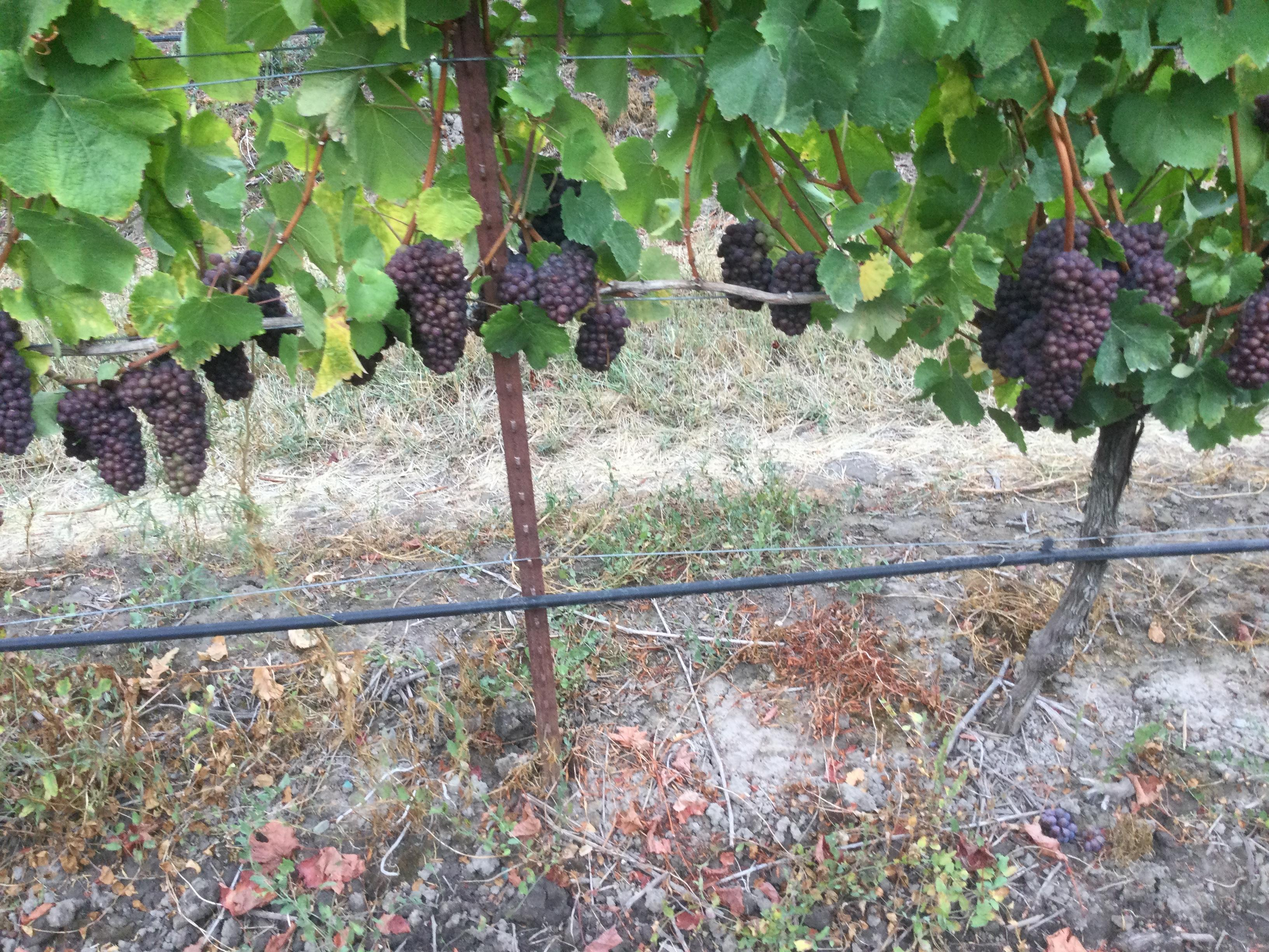leaf: (0, 51, 174, 216), (757, 0, 862, 130), (1112, 71, 1237, 174), (147, 110, 246, 231), (0, 240, 115, 343), (13, 207, 138, 292), (1157, 0, 1268, 81), (704, 19, 786, 127), (294, 30, 378, 133), (349, 94, 430, 200), (941, 0, 1059, 71), (181, 0, 260, 102), (1094, 290, 1176, 384), (911, 233, 998, 319), (546, 97, 626, 190), (612, 136, 681, 239), (858, 0, 958, 68), (850, 51, 937, 128), (481, 301, 570, 369), (572, 23, 628, 116), (169, 293, 262, 347), (57, 0, 134, 65), (690, 109, 741, 206), (128, 35, 188, 116), (139, 180, 202, 256), (914, 357, 984, 425), (310, 309, 364, 397), (506, 47, 566, 116), (947, 108, 1008, 168), (0, 0, 69, 53), (225, 0, 296, 50), (560, 182, 614, 247), (416, 186, 481, 240), (129, 272, 182, 335), (833, 294, 904, 341), (841, 122, 895, 183), (345, 261, 397, 321), (816, 247, 861, 313), (1067, 382, 1136, 425), (290, 202, 337, 262), (100, 0, 194, 30), (653, 124, 693, 188), (907, 304, 959, 350), (604, 219, 642, 277), (340, 222, 385, 270), (1186, 261, 1231, 304), (354, 0, 407, 35), (986, 406, 1026, 452), (1225, 252, 1263, 300), (832, 202, 876, 242), (31, 390, 67, 438), (859, 252, 893, 301), (406, 0, 470, 23), (565, 0, 615, 29), (266, 182, 302, 222), (638, 247, 681, 280), (349, 320, 386, 357), (1083, 134, 1113, 176), (647, 0, 699, 19), (617, 4, 640, 24), (862, 187, 886, 205), (664, 192, 681, 214), (540, 18, 554, 30), (578, 103, 590, 114), (833, 163, 836, 177), (631, 25, 637, 30), (753, 155, 757, 161), (551, 4, 554, 11), (741, 211, 746, 215), (516, 14, 518, 19), (778, 198, 782, 200), (715, 89, 716, 94), (283, 0, 287, 1), (945, 124, 946, 128), (380, 343, 381, 346), (711, 79, 712, 81), (293, 17, 294, 18), (293, 161, 293, 163), (297, 20, 297, 21)
